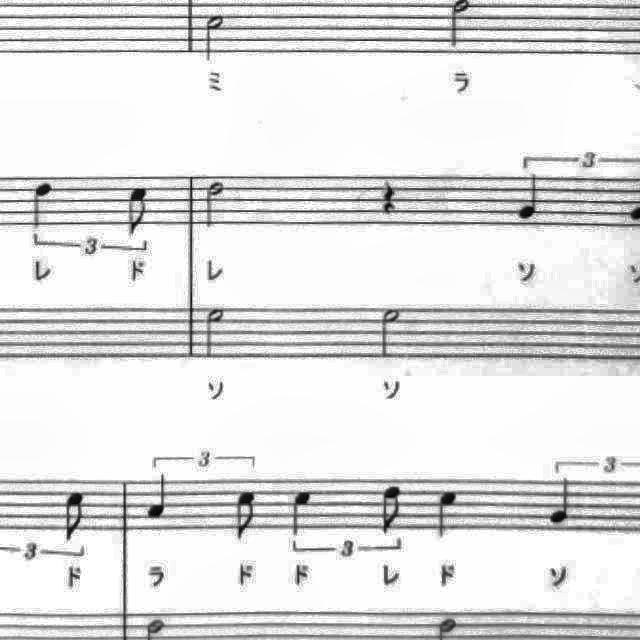Eighth-note: (227, 486, 265, 548), (120, 182, 158, 242), (374, 482, 410, 542), (58, 488, 94, 548), (624, 173, 640, 227)
Half-note: (198, 304, 234, 368), (370, 304, 406, 364), (199, 6, 233, 66), (200, 176, 230, 234)
Quarter-note: (542, 470, 584, 530), (429, 484, 466, 546), (510, 170, 550, 226), (24, 177, 61, 235), (284, 483, 318, 541), (141, 469, 175, 526)
Quarter-rest: (372, 174, 402, 222)
